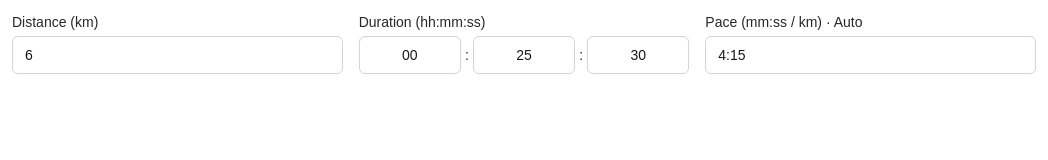
it: validates an invalid actual run metric after blur
Replace the text in the field labelled "Distance (km)" with "0": (177, 55) [12,36,343,74]
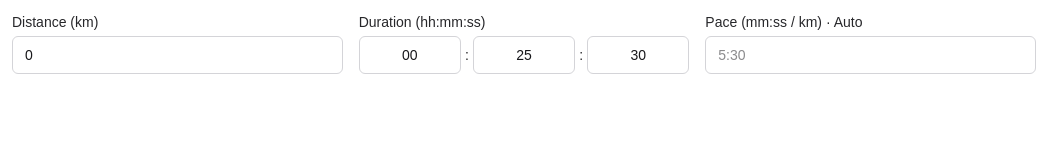
Leave the field labelled "Distance (km)", box [12,36,343,74]
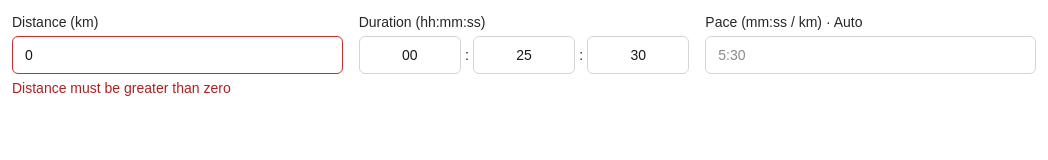
Expected: the text "Distance must be greater than zero" is shown, [12,80,231,96]
